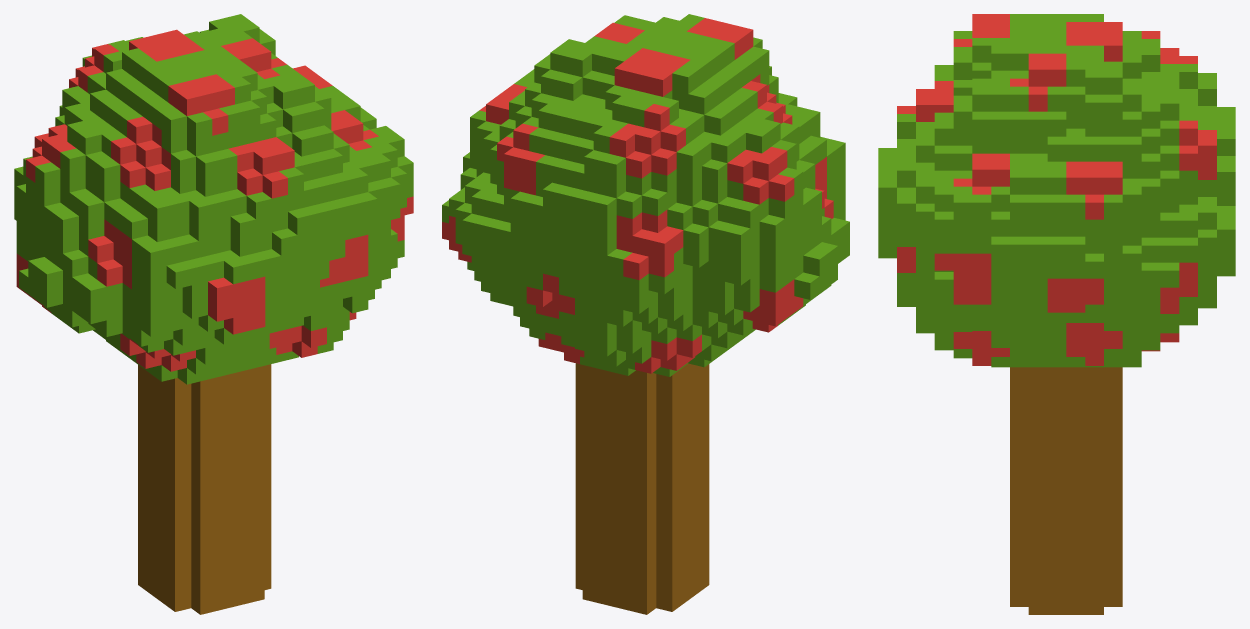
The model's file is Appelboom.obj.
3 views of the same model, side by side, from view 1: azimuth 30°, elevation 25°; view 2: azimuth 150°, elevation 25°; view 3: azimuth 270°, elevation 25° (orthographic).
Size of the model in its own units: 2.1 by 3.2 by 1.9.
1 material, 1 textured.
